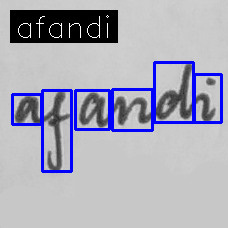a: (77, 90, 107, 128), (13, 93, 42, 127)
d: (152, 60, 195, 122)
f: (42, 89, 74, 174)
i: (198, 75, 218, 124)
n: (114, 93, 150, 129)
